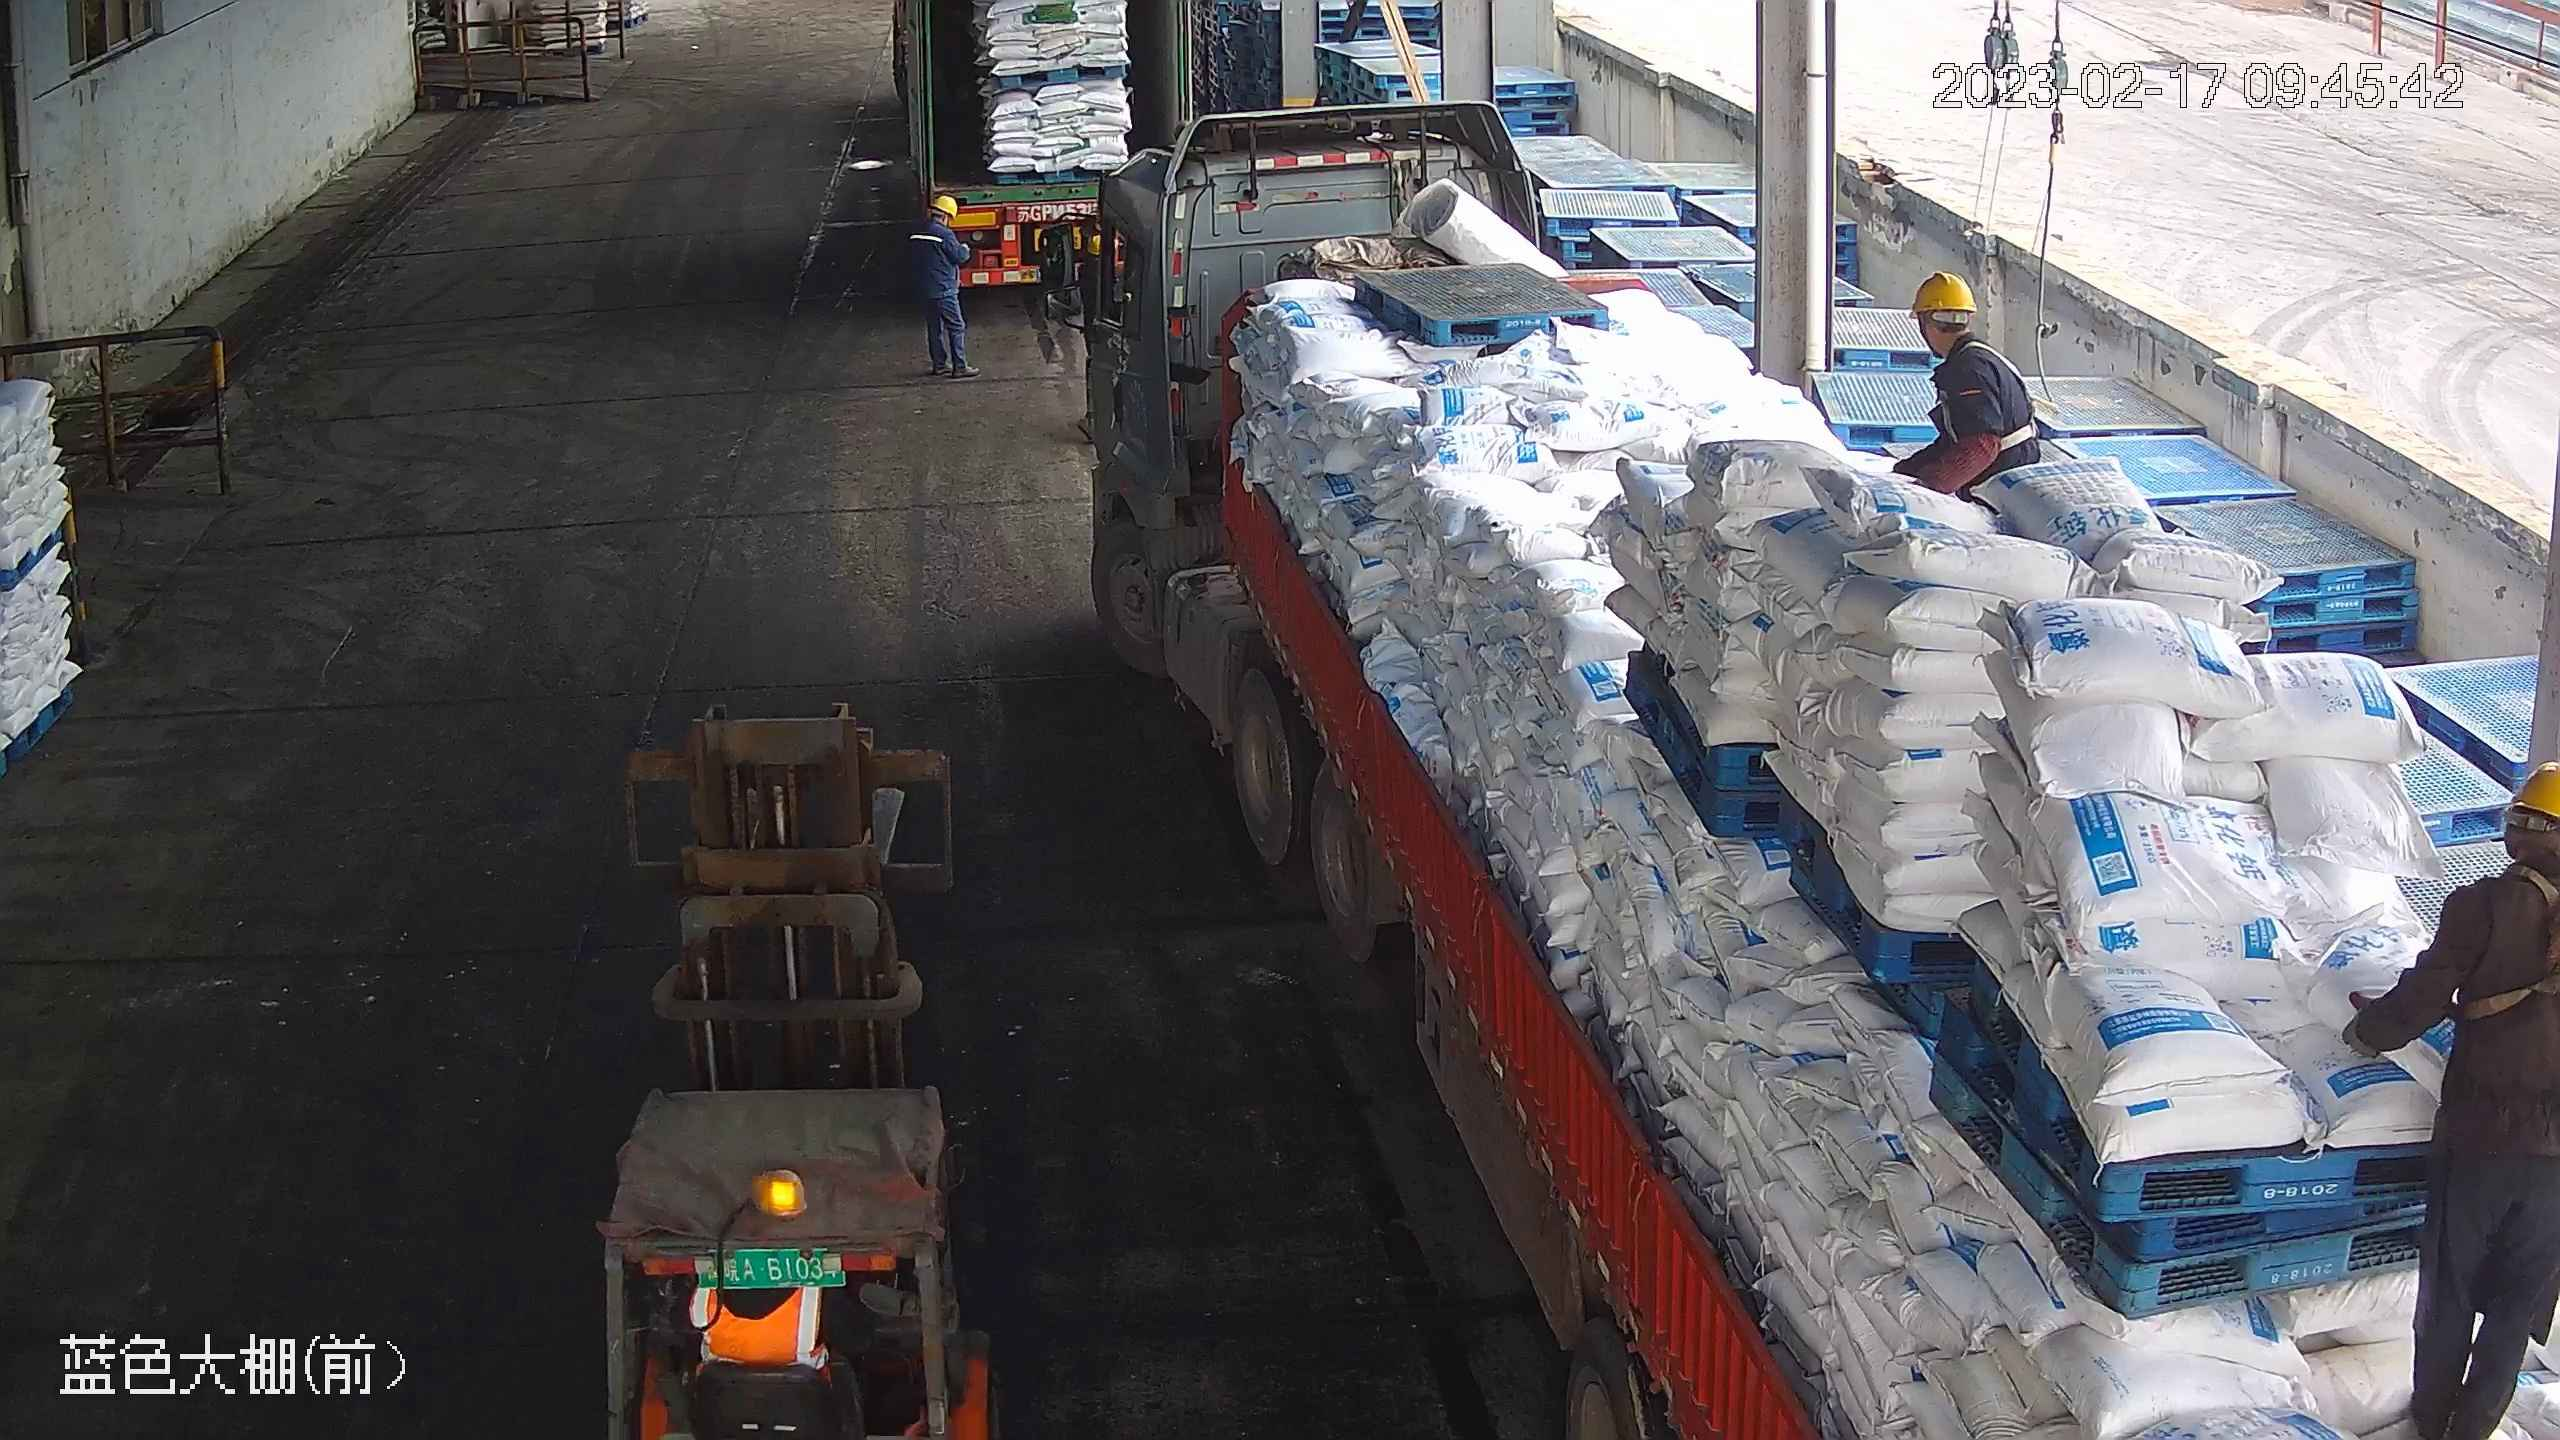belt: (2459, 865, 2560, 1020), (1951, 341, 2043, 453)
head: (2421, 759, 2560, 964), (1906, 267, 2020, 396), (1907, 263, 1993, 336), (912, 194, 965, 250)
helmet: (2505, 756, 2559, 841), (1906, 266, 1978, 314), (926, 194, 954, 217)
people: (2343, 753, 2560, 1437), (1889, 265, 2039, 516), (905, 193, 971, 379)
truck: (1075, 146, 2554, 1440), (895, 1, 1213, 280)
